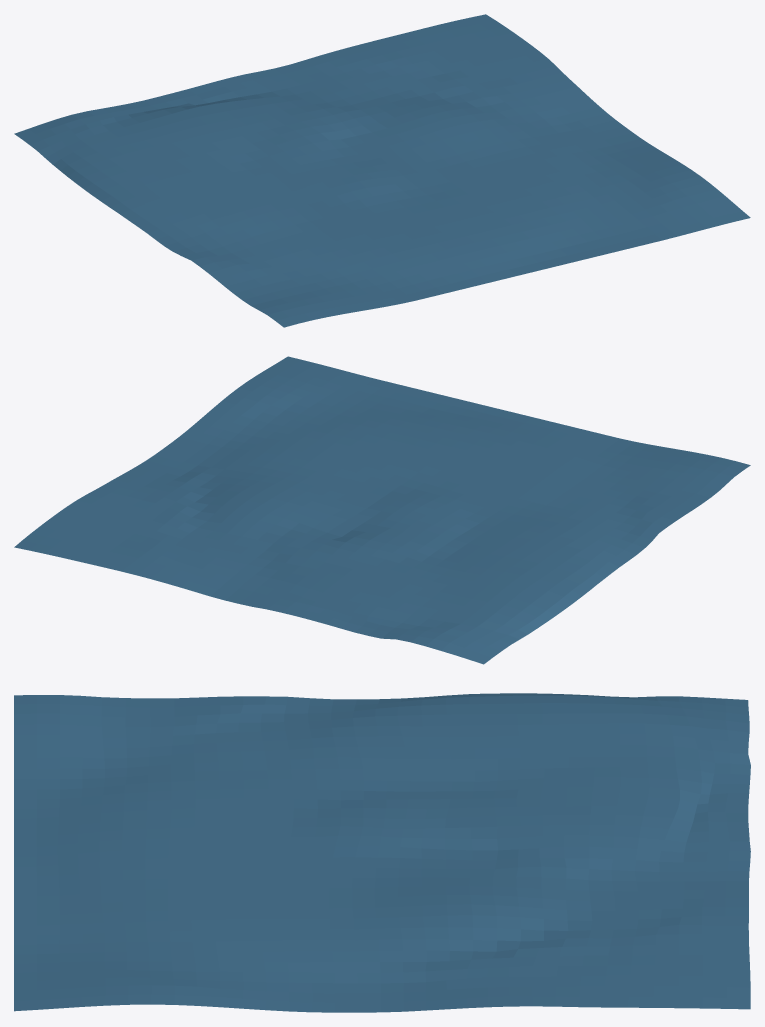
The model's file is dark-ground.glb.
3 renders of one model, top to bottom at view 1: azimuth 30°, elevation 25°; view 2: azimuth 150°, elevation 25°; view 3: azimuth 270°, elevation 25°, orthographic. The views are drawn at different scales.
Visible parts, largest first — view 1: ground-dark; view 2: ground-dark; view 3: ground-dark.
Part boxes in pixels (bbox=[...]): ground-dark: bbox=[14, 14, 750, 327]; ground-dark: bbox=[14, 356, 750, 664]; ground-dark: bbox=[14, 693, 750, 1012].
Bounding box in the file's own units: 41.12 × 0.8362 × 40.16.
